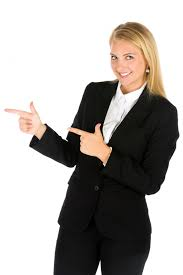hand: (63, 120, 119, 161), (3, 99, 53, 137)
